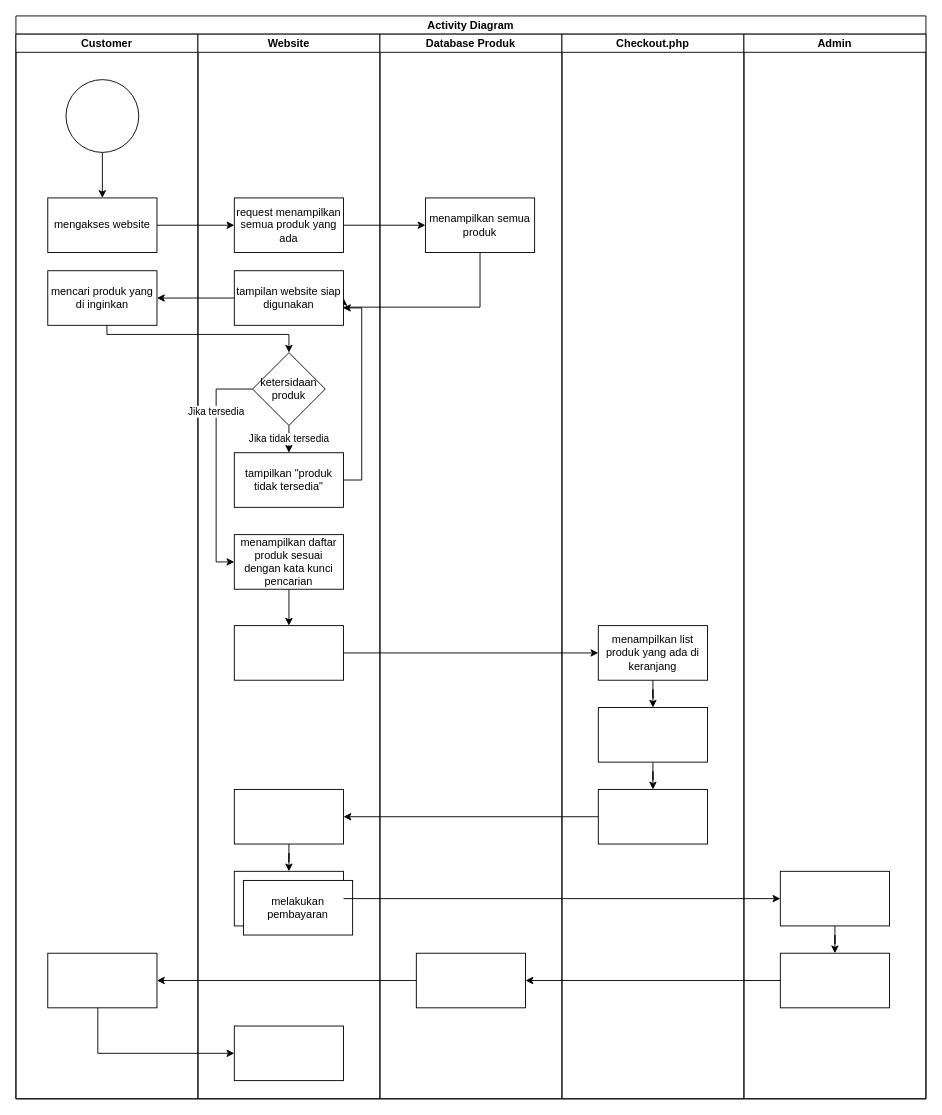
This 942x1115 diagram has some shape labels left out. Each missing label, with the centre of its shape:
klik "Checkout": point (652, 734)
konfirmasi produk telah terima produk: point (102, 980)
memilih metode pembayaran: point (288, 816)
menambahkan produk ke keranjang: point (288, 652)
menampilkan metode pembayaran: point (652, 816)
mengirimkan pesanan: point (834, 980)
mengkonfirmasi pesanan: point (834, 898)
order selesai: point (288, 1053)
stok produk dikurangi: point (470, 980)
